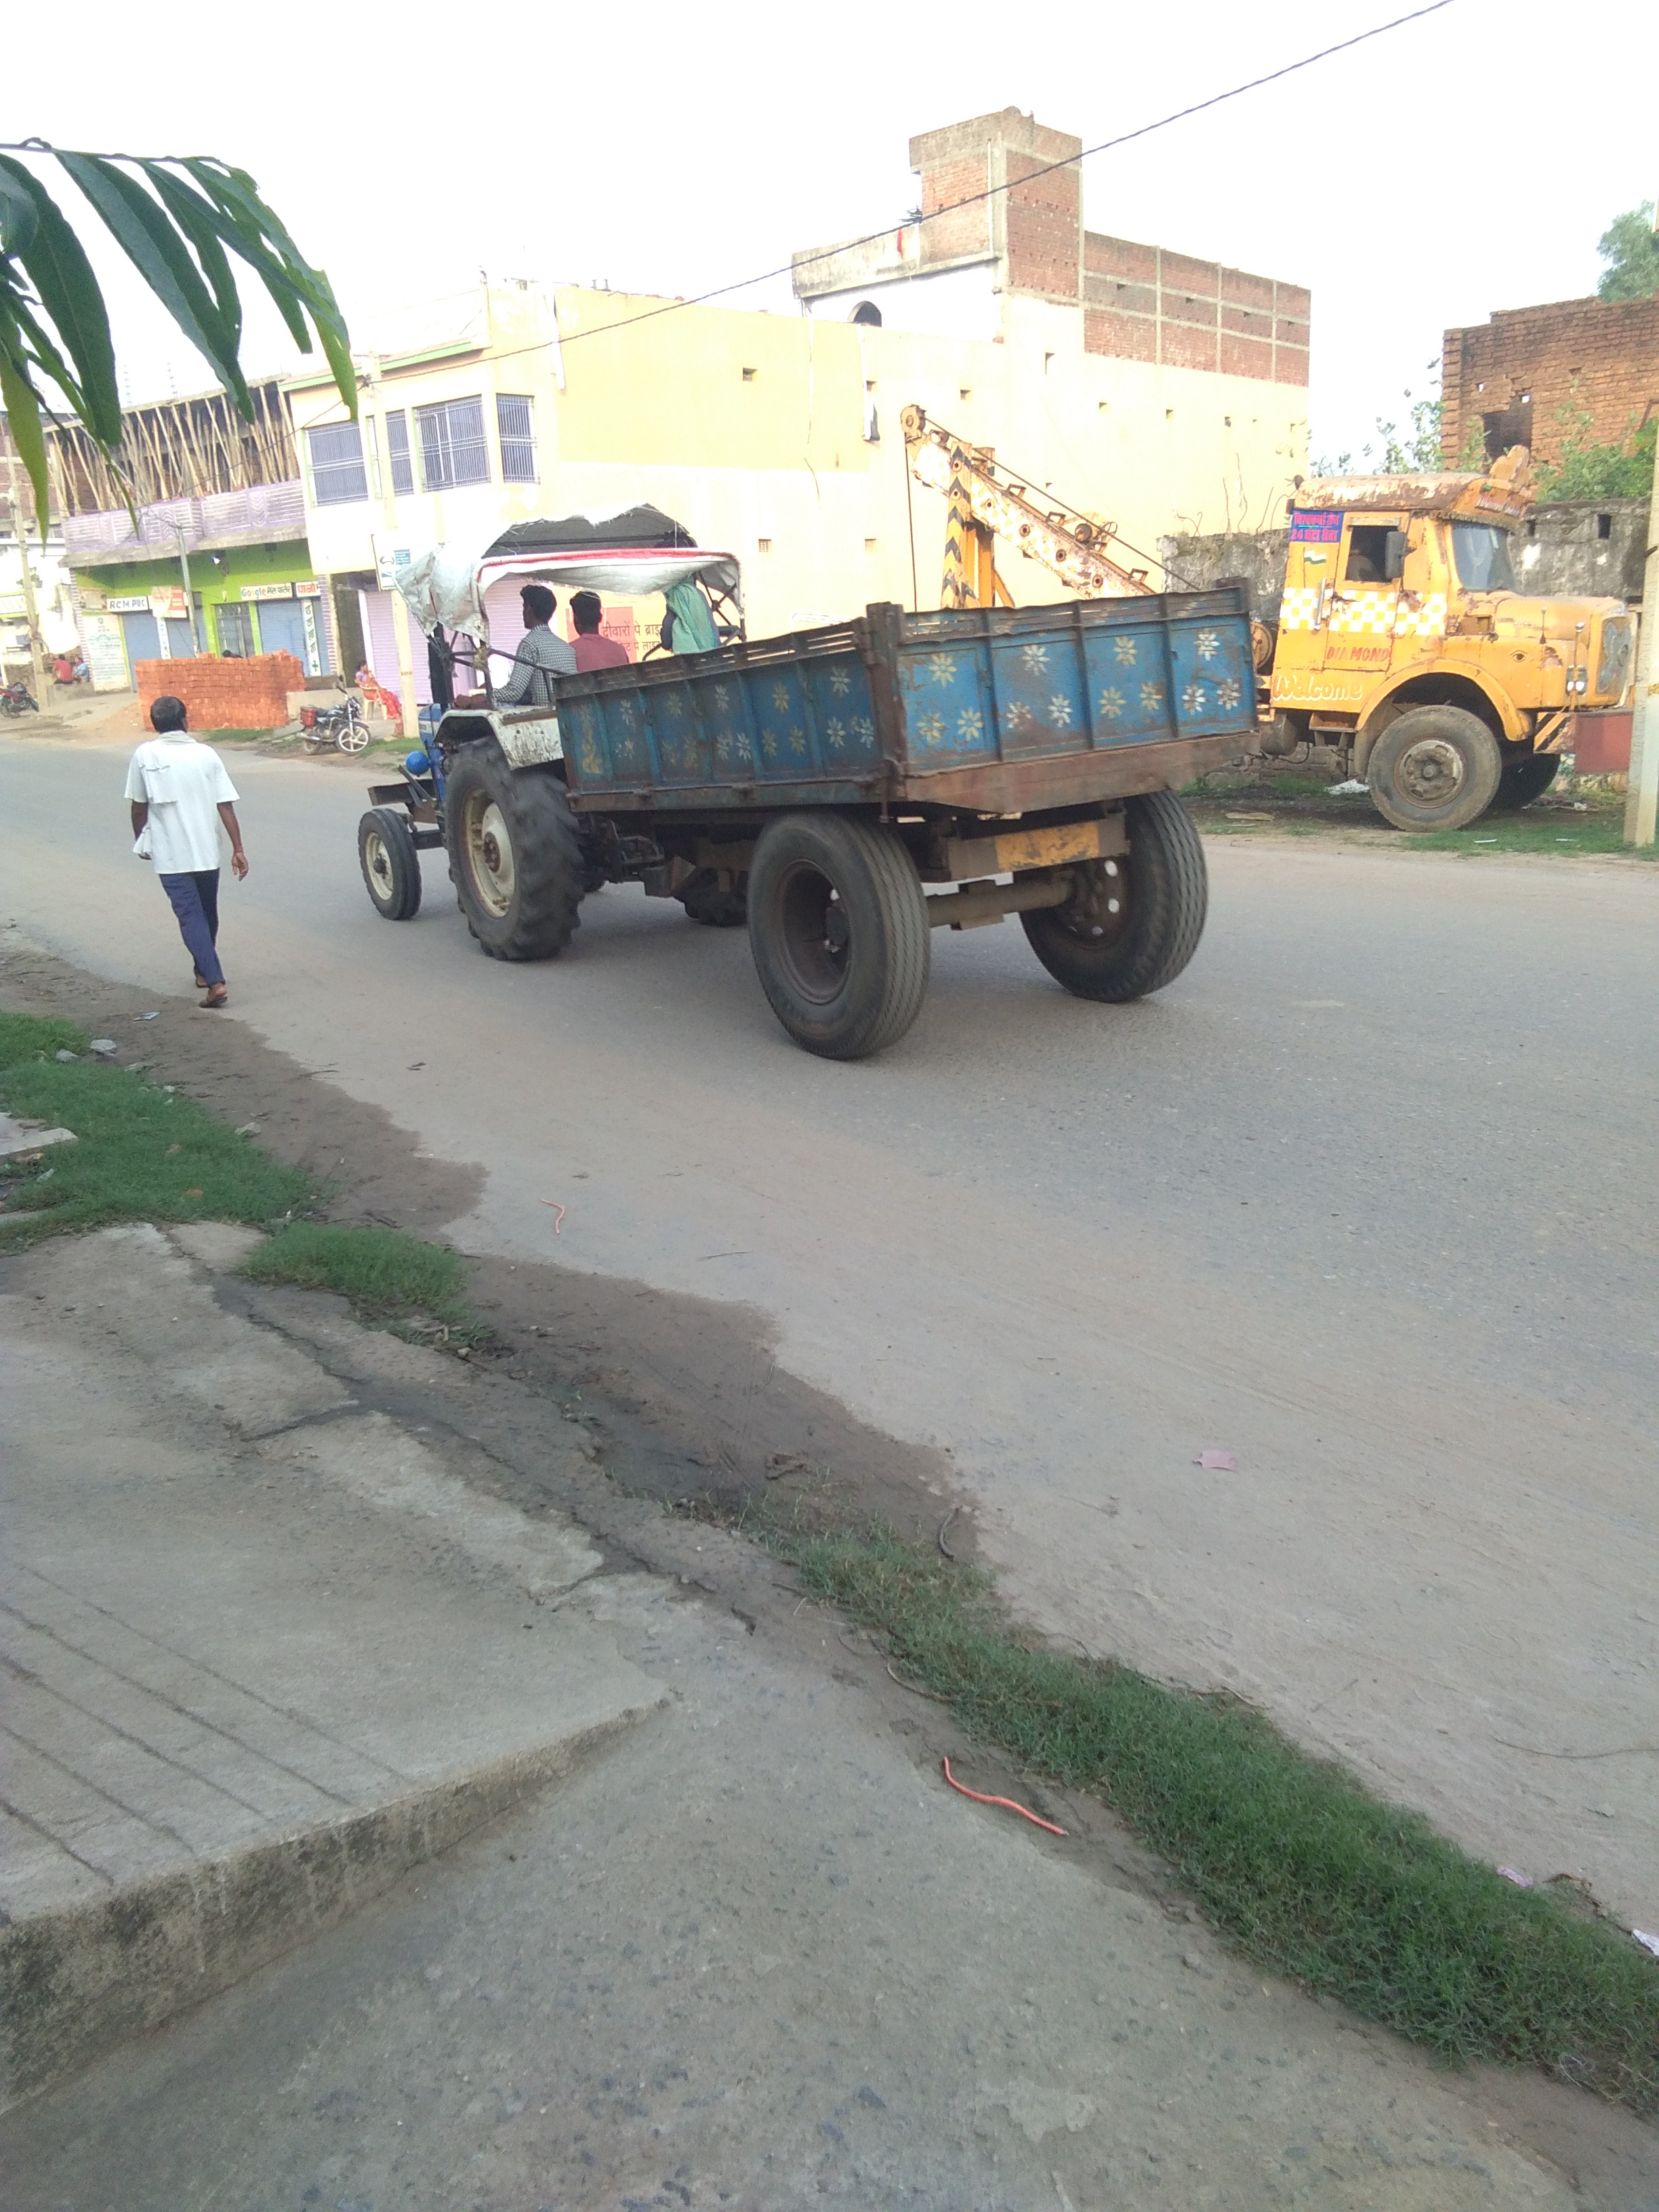tractor: (357, 500, 1276, 1066)
